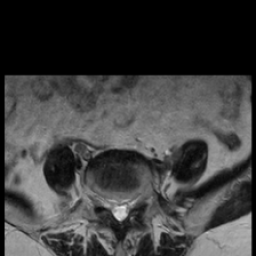CCS_normal: (116, 193, 122, 227)
LFS_normal: (131, 189, 139, 215)
LLS_normal: (122, 195, 130, 223)
RFS_normal: (100, 188, 109, 215)
RLS_normal: (109, 193, 116, 221)
